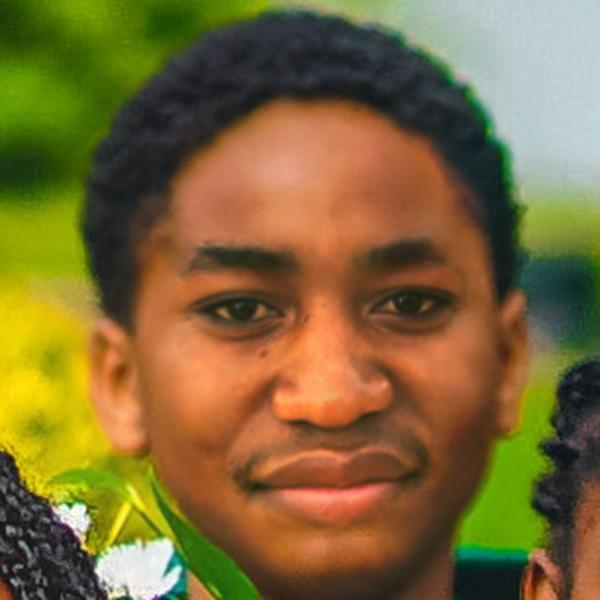Eyes: (183, 270, 294, 345), (362, 266, 457, 338)
